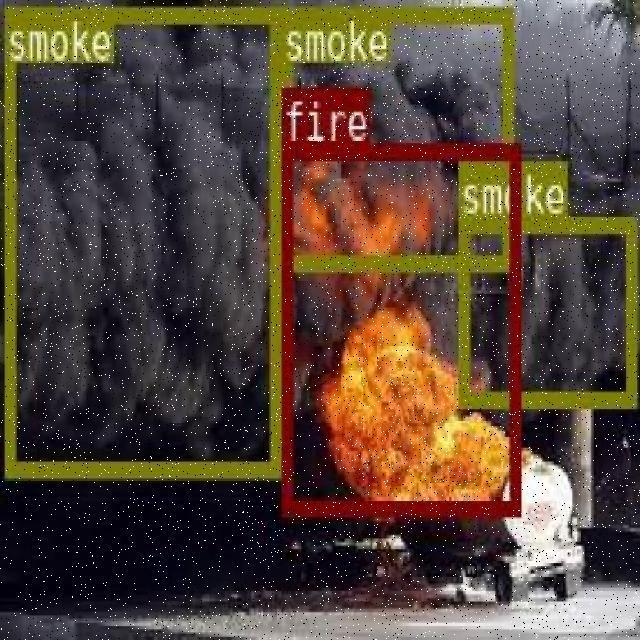Smoke: (0, 9, 204, 469), (279, 0, 512, 204), (489, 245, 602, 372)
